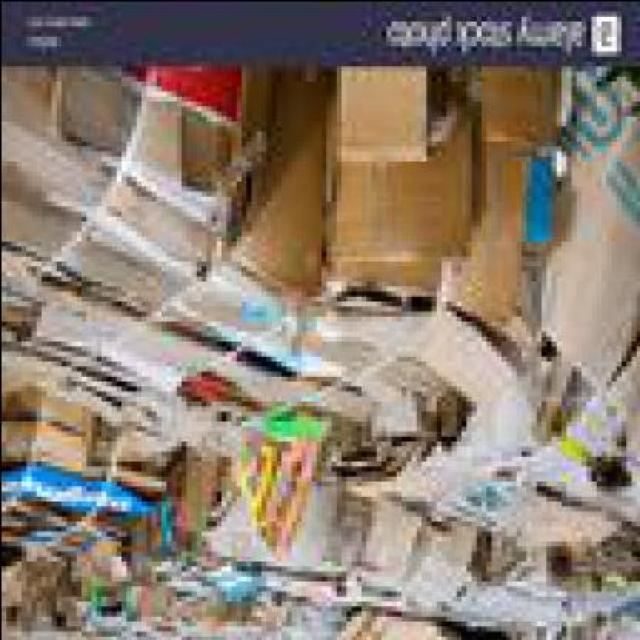CARDBOARD: (4, 76, 638, 638), (5, 70, 440, 410), (235, 69, 534, 340), (6, 255, 374, 420), (165, 445, 480, 620), (440, 314, 638, 531), (530, 74, 638, 451), (5, 504, 306, 638), (344, 420, 638, 557), (6, 324, 334, 444), (329, 75, 480, 260), (5, 360, 260, 465), (450, 534, 638, 631), (476, 75, 564, 250), (10, 420, 185, 495), (5, 470, 150, 555), (410, 314, 530, 414), (335, 366, 470, 454), (335, 70, 440, 170), (329, 610, 506, 638), (516, 610, 638, 638)
